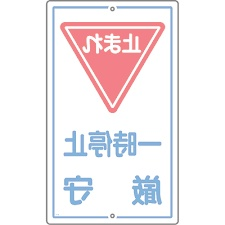Regulatory_sign_triangle: (59, 14, 170, 117)
